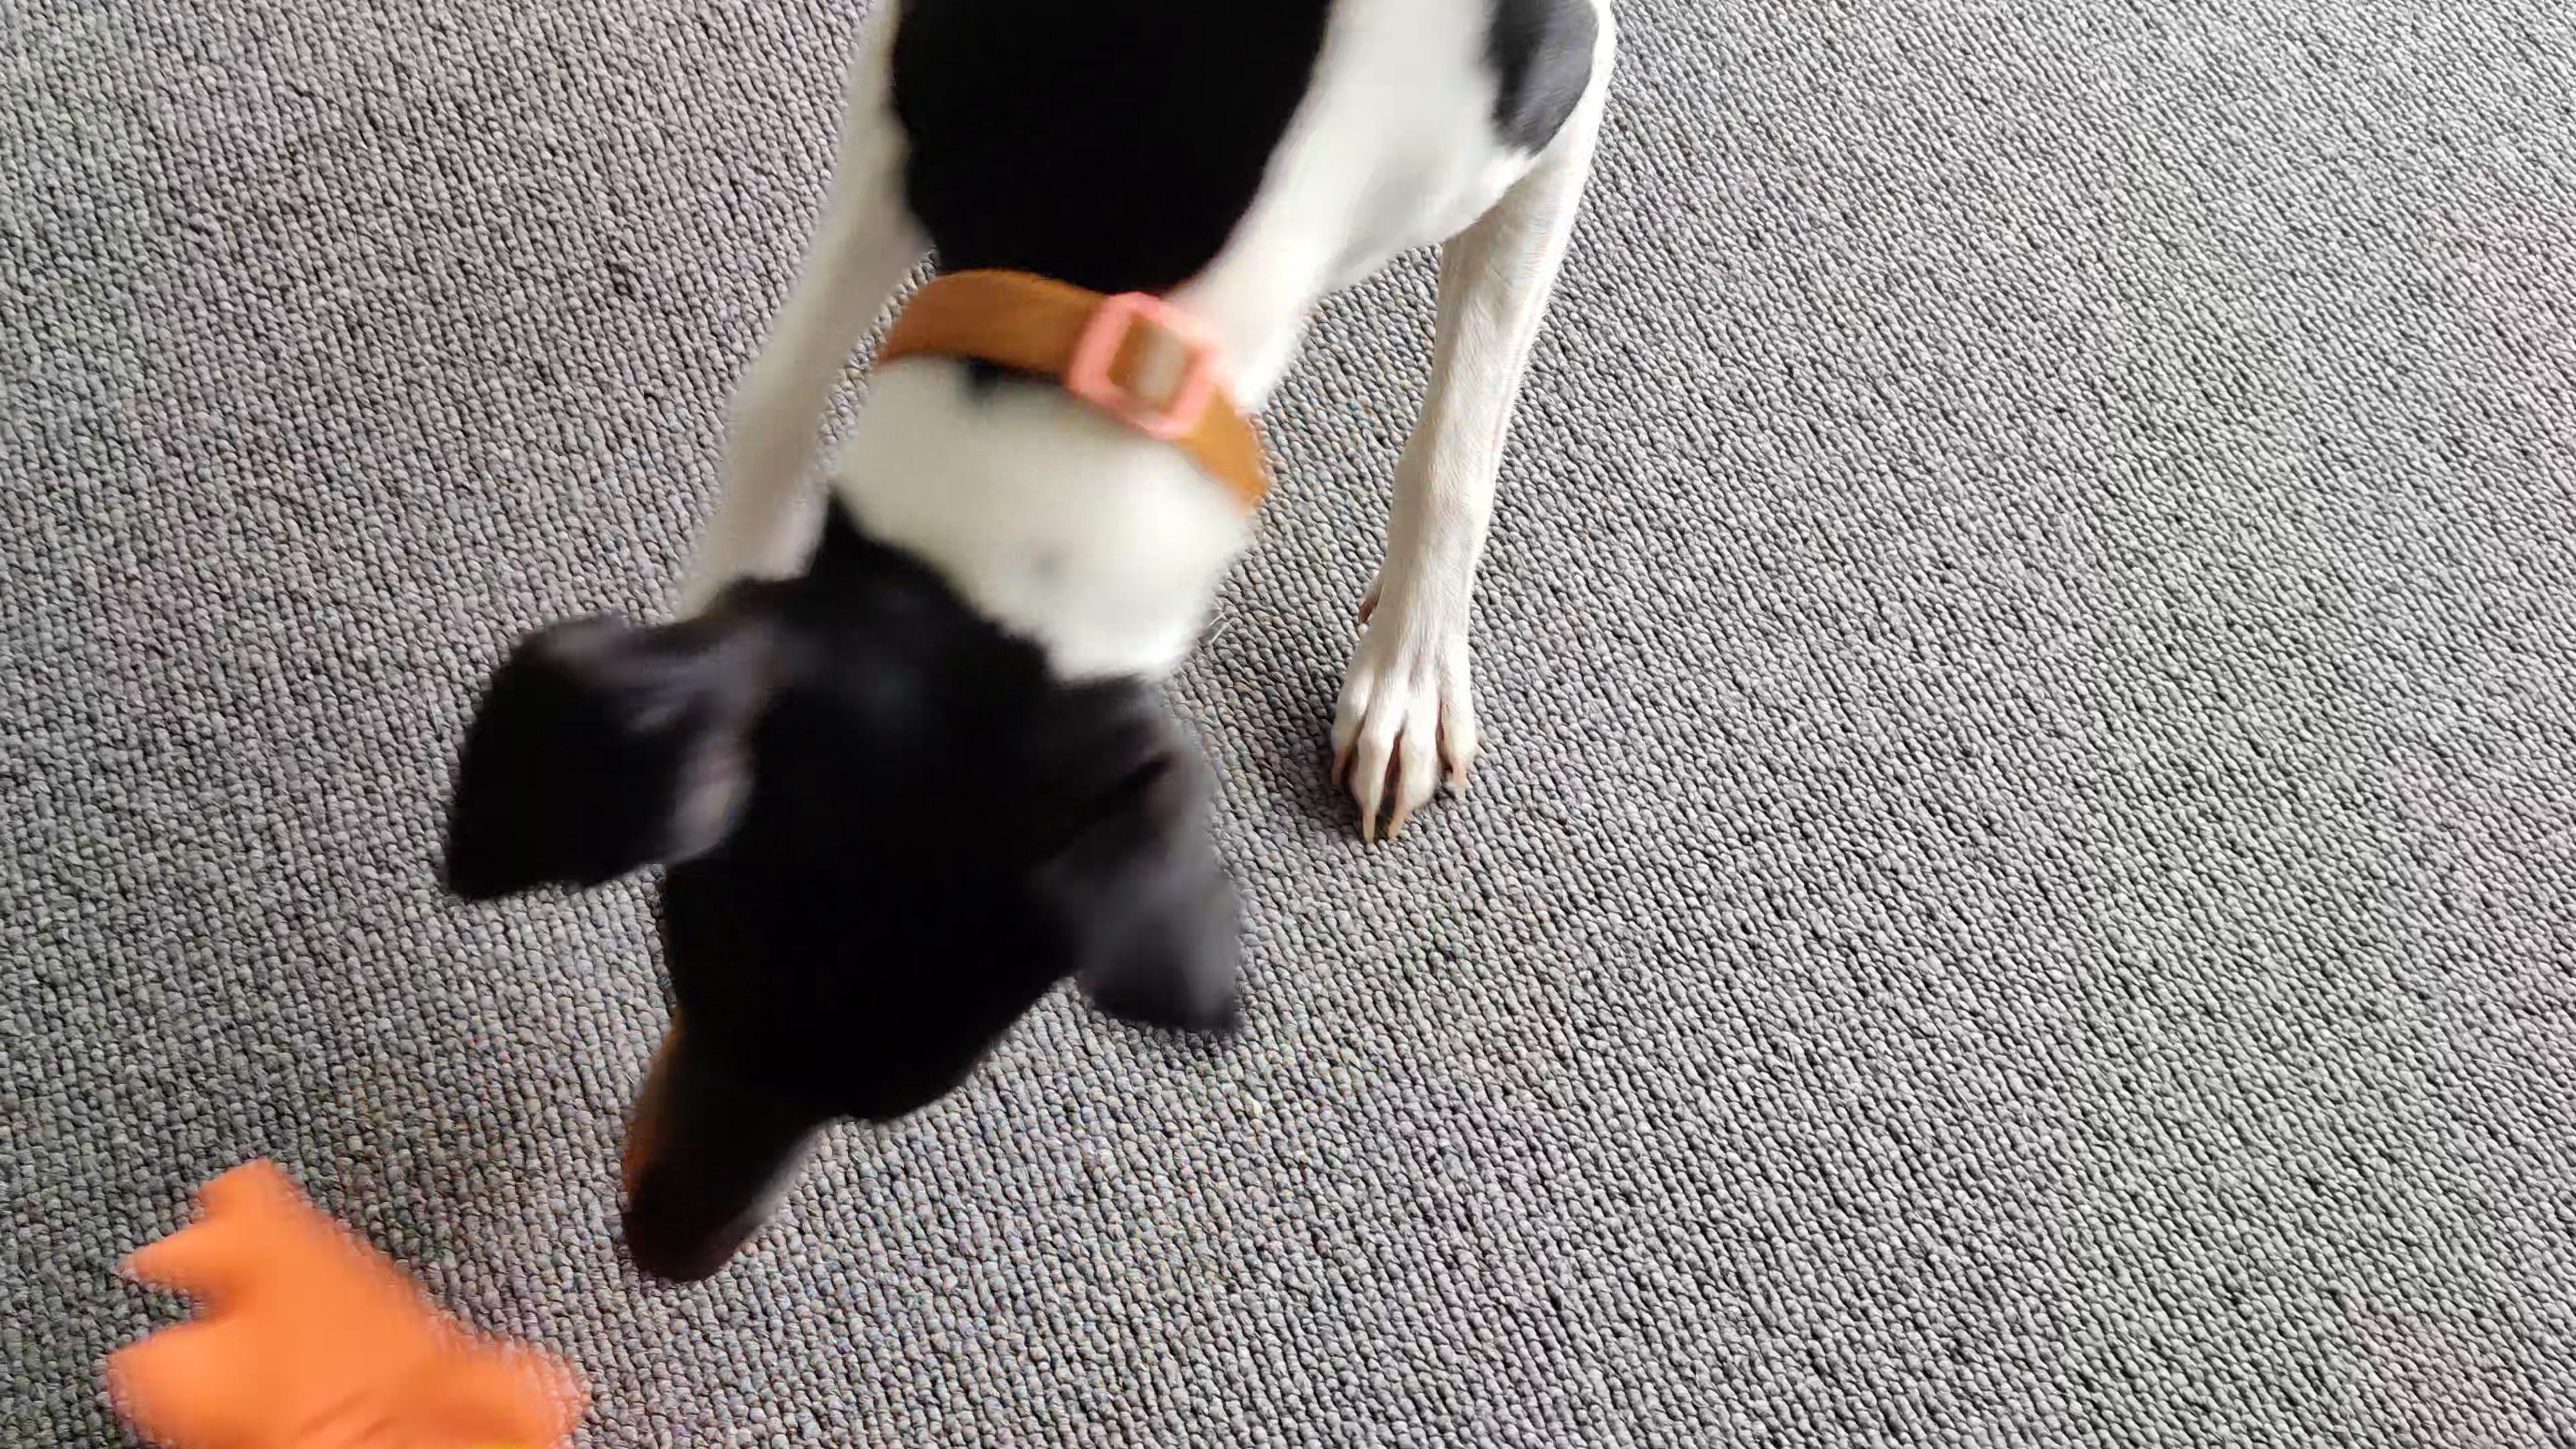Dog: (425, 0, 1624, 1292)
